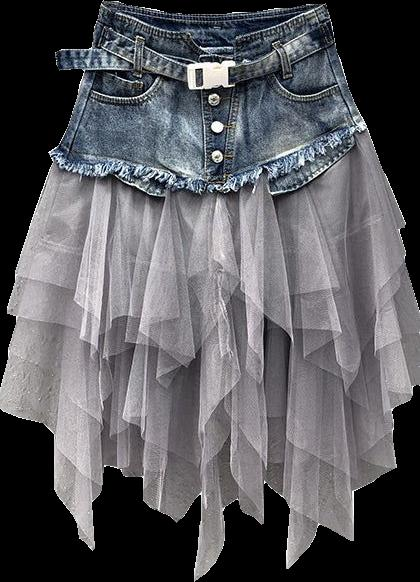Hemline: (0, 401, 395, 581)
Waistline: (49, 123, 365, 192), (100, 0, 326, 57)
